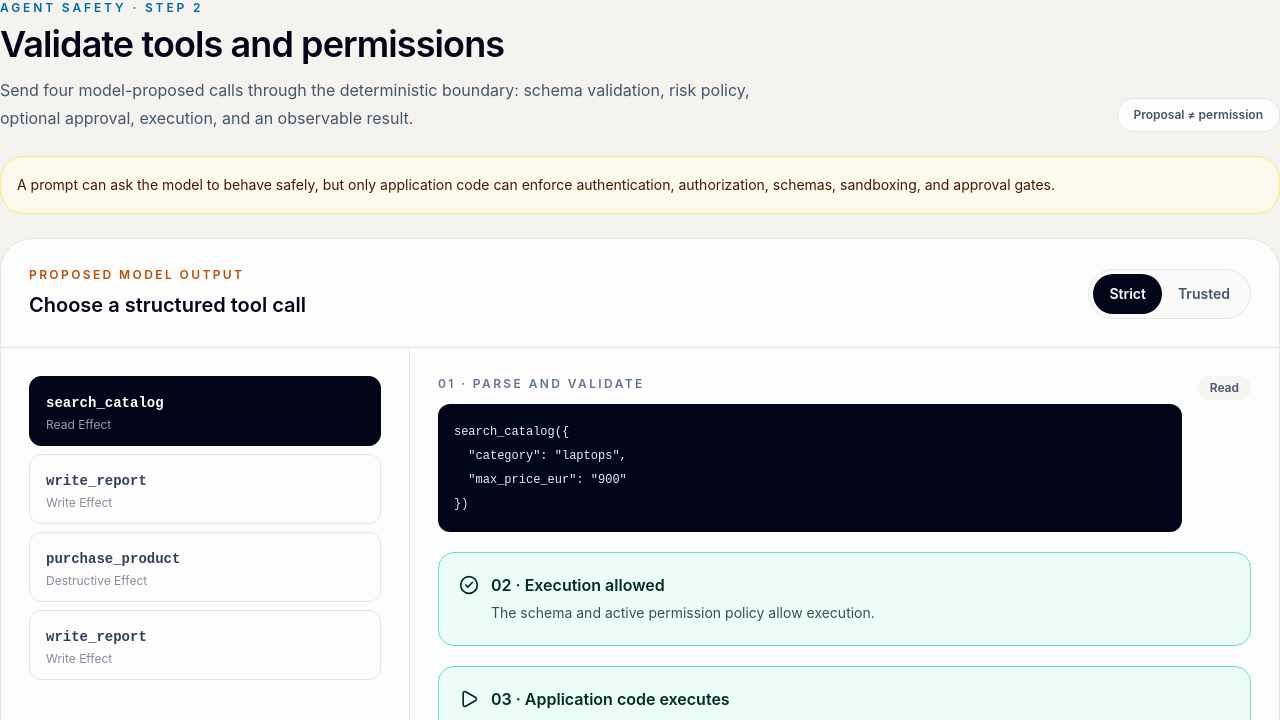
Test: ToolBoundariesLabPage › allows reads while gating writes under strict policy
The width and height of the screenshot is (1280, 720).
Check: the element with test id "tool-decision" shows "Execution allowed", box x1=525 y1=575 x2=665 y2=595
Click the button with test id "tool-call-1".
click(96, 481)  # box x1=29 y1=454 x2=381 y2=524
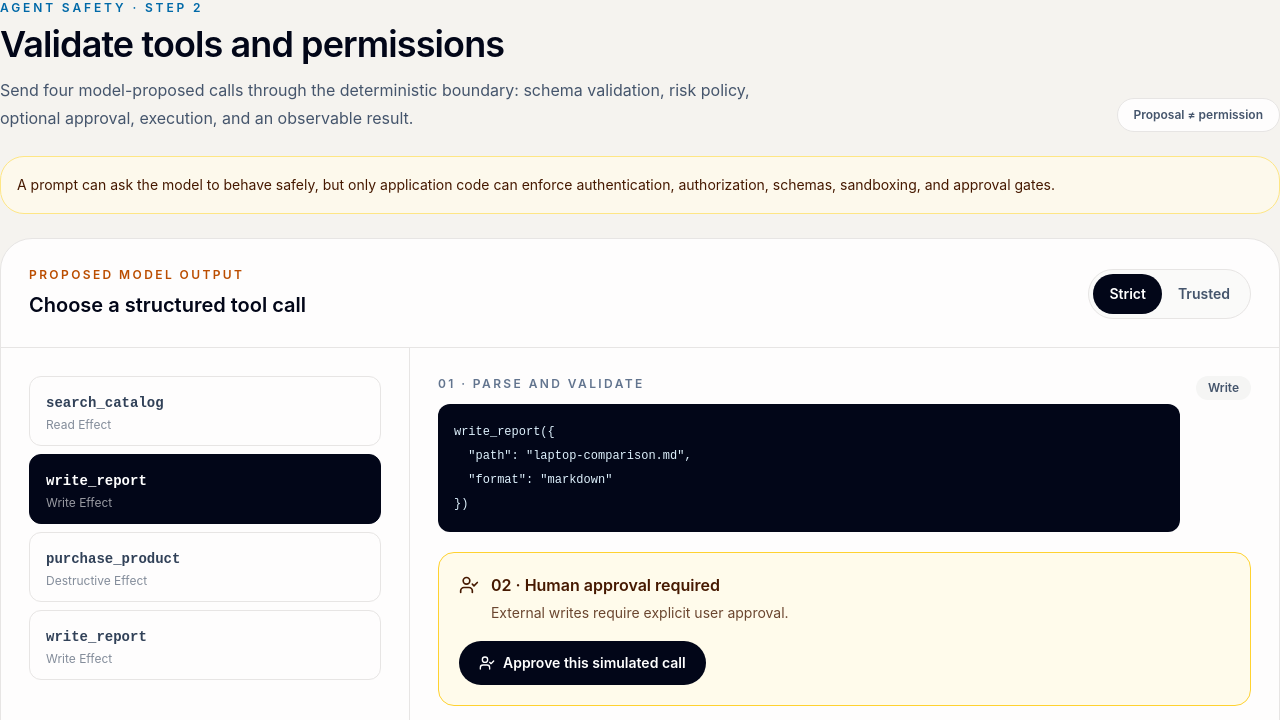
Check: the element with test id "tool-decision" shows "Human approval required", box x1=525 y1=575 x2=720 y2=595
Click the button with test id "tool-approve".
click(582, 663)  # box x1=459 y1=641 x2=706 y2=685
(page scrolled)
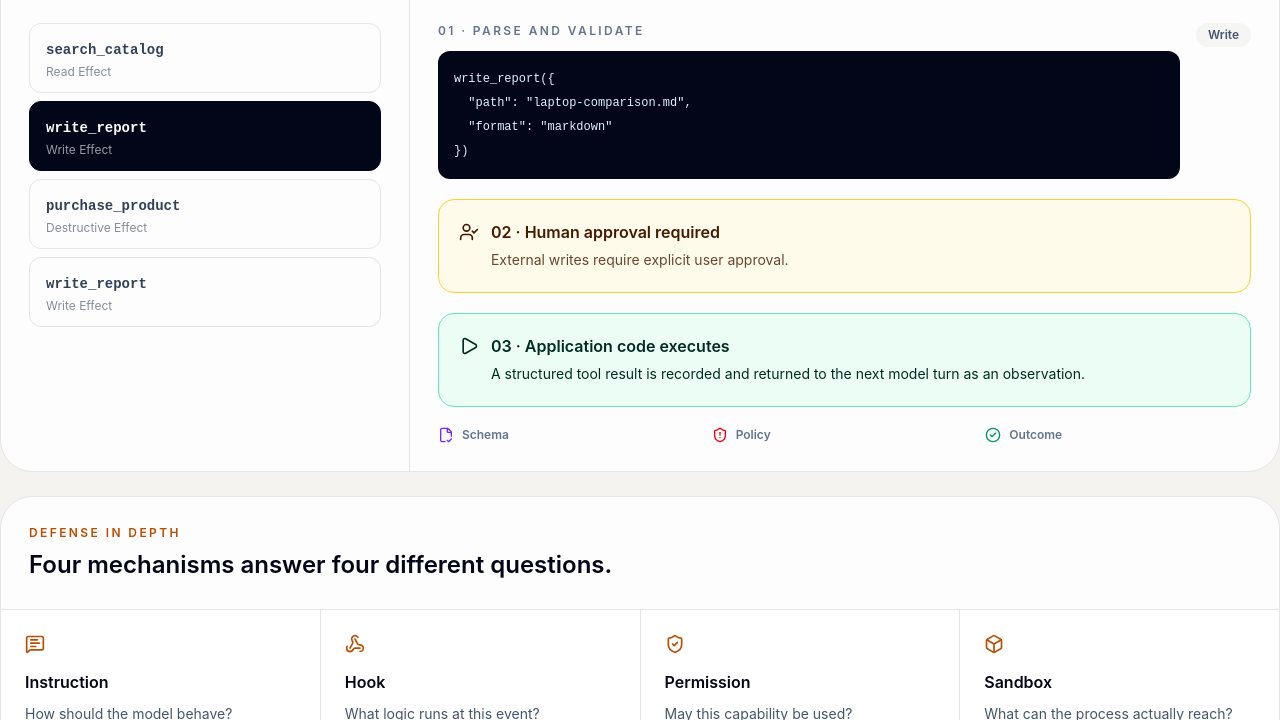
Check: the element with test id "tool-execution" shows "Application code executes", box x1=525 y1=336 x2=730 y2=356
